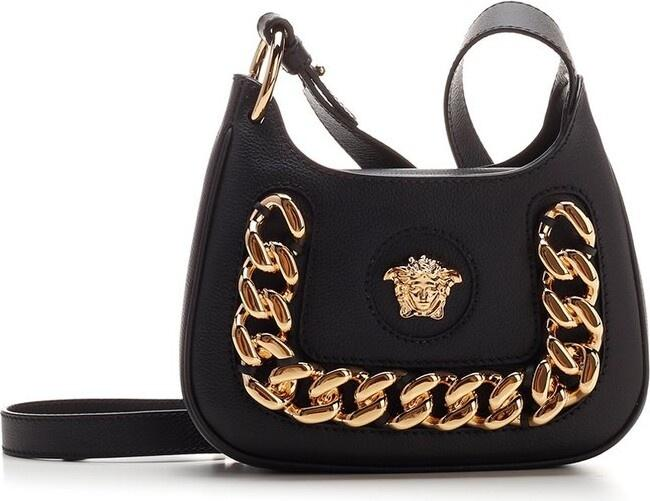VERSACE: (362, 225, 481, 346)
